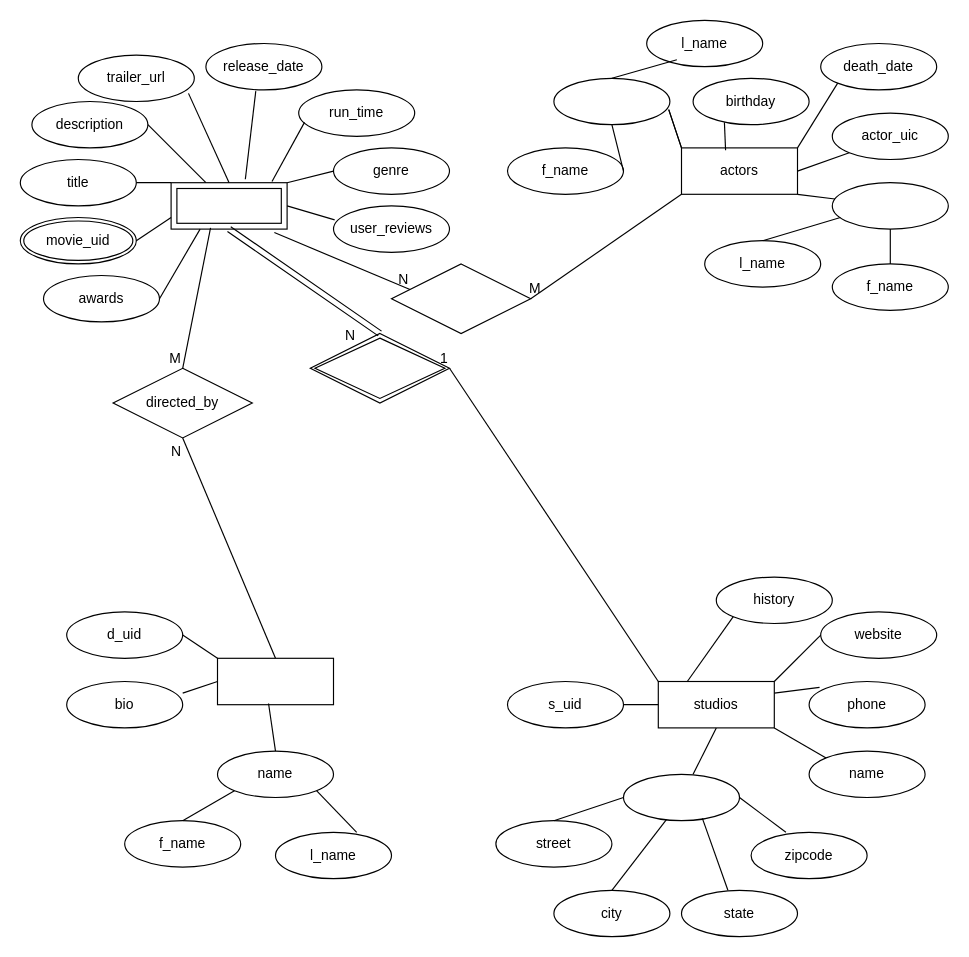
Some shapes in this 969 by 957 pixel diagram are drawn without their labels. Each missing label, with the centre of its shape:
"address" belongs at pixel 681 797.
"directors" belongs at pixel 275 681.
"featured" belongs at pixel 460 298.
"movies" belongs at pixel 228 205.
"produced_by" belongs at pixel 379 367.
"real_name" belongs at pixel 889 205.
"screen_name" belongs at pixel 611 101.
